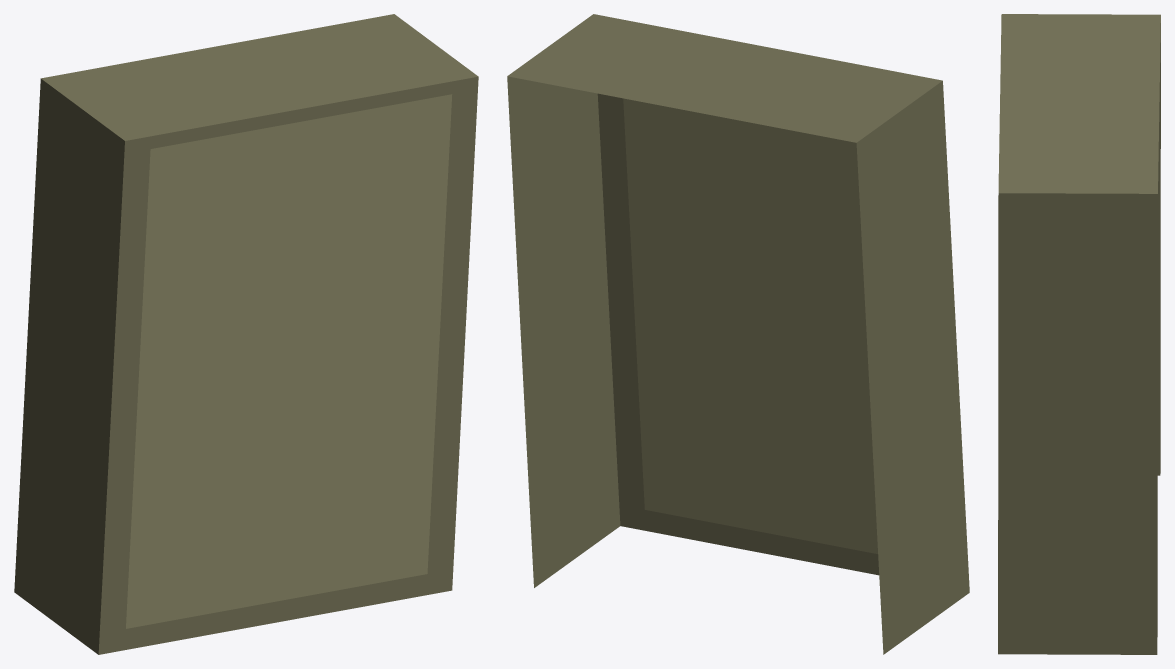
The model's file is MSH_QuestObject_locker_04.fbx.
3 renders of one model, left to right at view 1: azimuth 30°, elevation 25°; view 2: azimuth 150°, elevation 25°; view 3: azimuth 270°, elevation 25°, orthographic. The views are drawn at different scales.
Visible parts, largest first — view 1: MSH_QuestObject_locker_04; view 2: MSH_QuestObject_locker_04; view 3: MSH_QuestObject_locker_04.
Part boxes in pixels (x1,y1,x2,y2): MSH_QuestObject_locker_04: [14, 14, 478, 654]; MSH_QuestObject_locker_04: [507, 14, 969, 654]; MSH_QuestObject_locker_04: [998, 14, 1160, 654].
Size of the model in its own units: 2.19 by 2.91 by 0.8739.
